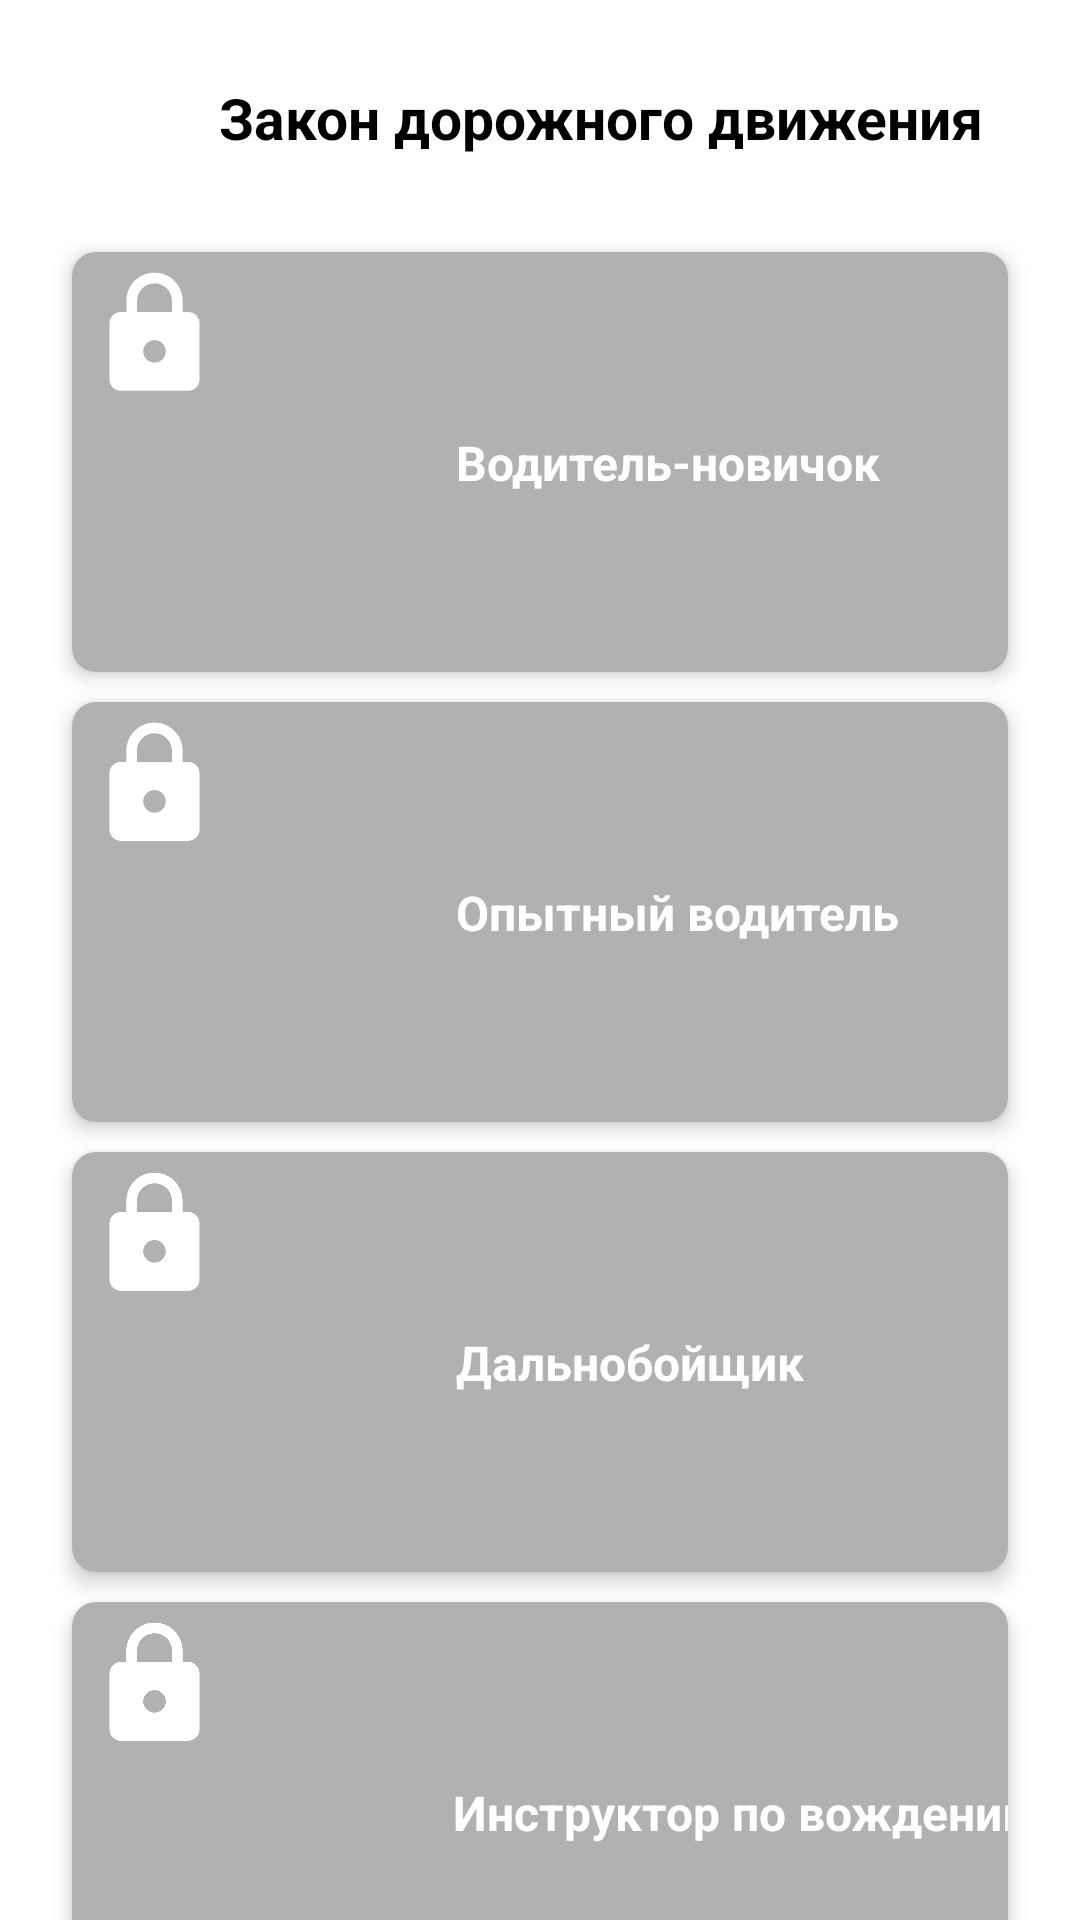

Named icons in this screenshot (1080x1920) and their bounding boxes, (x1, y1, x2, y2):
password: (109, 273, 200, 391), (109, 722, 200, 841), (109, 1173, 200, 1291), (109, 1623, 200, 1741)
